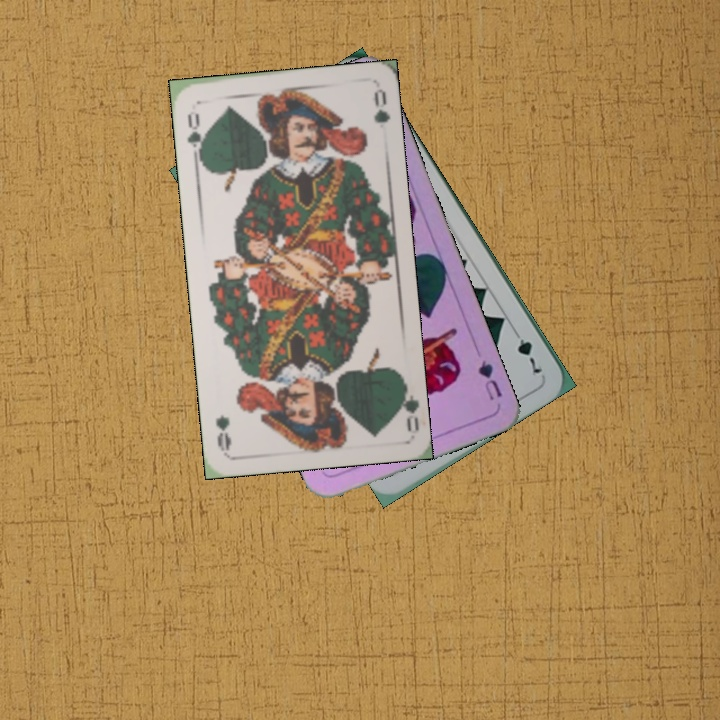G7: (508, 324, 546, 379)
GO: (393, 375, 422, 434), (183, 109, 208, 162)
GU: (474, 356, 505, 403)
